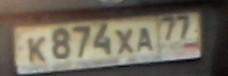license-plateSW: (13, 10, 201, 67)
